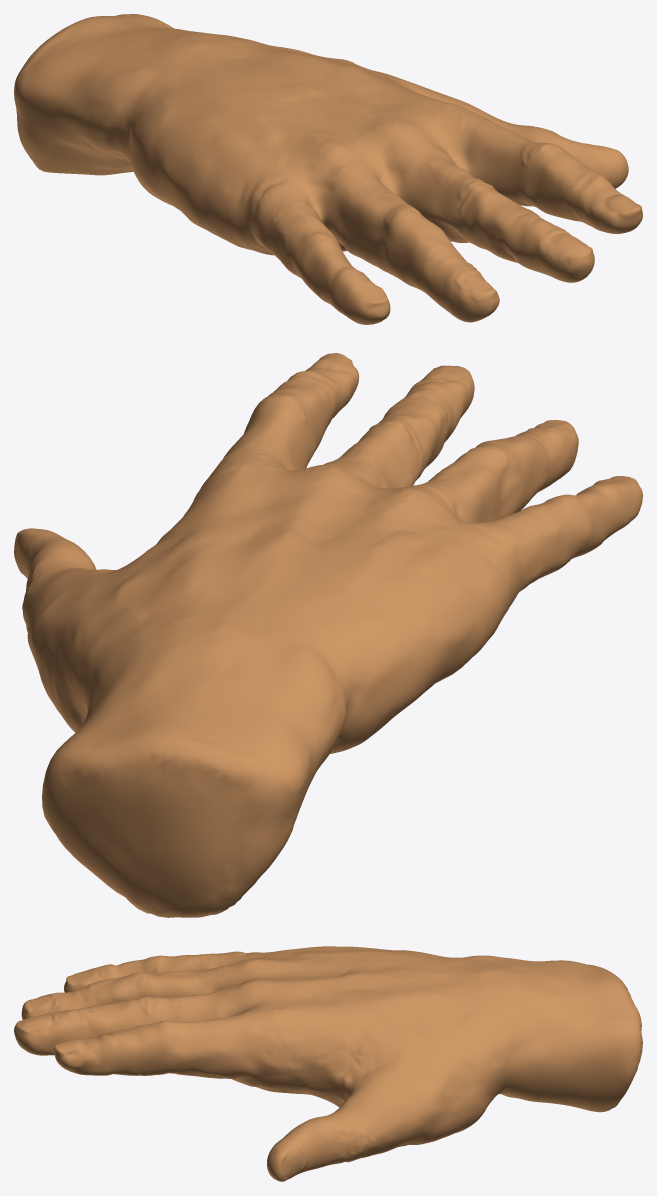
3 views of the same model, one above another, from view 1: azimuth 30°, elevation 25°; view 2: azimuth 150°, elevation 25°; view 3: azimuth 270°, elevation 25° (orthographic). The views are drawn at different scales.
Visible parts, largest first — view 1: Object_3, Object_4, Object_5; view 2: Object_3, Object_4, Object_5; view 3: Object_3, Object_4, Object_5.
Boxes of the visible parts, box(x1,y1,x2,y2) form: Object_3: box(14, 14, 628, 321); Object_4: box(81, 39, 642, 324); Object_5: box(14, 18, 641, 321); Object_3: box(14, 366, 584, 917); Object_4: box(43, 353, 642, 739); Object_5: box(26, 359, 641, 913); Object_3: box(14, 947, 642, 1181); Object_4: box(14, 946, 532, 1154); Object_5: box(15, 949, 636, 1166).
Bounding box in the file's own units: 6.24 × 2.7 × 10.
